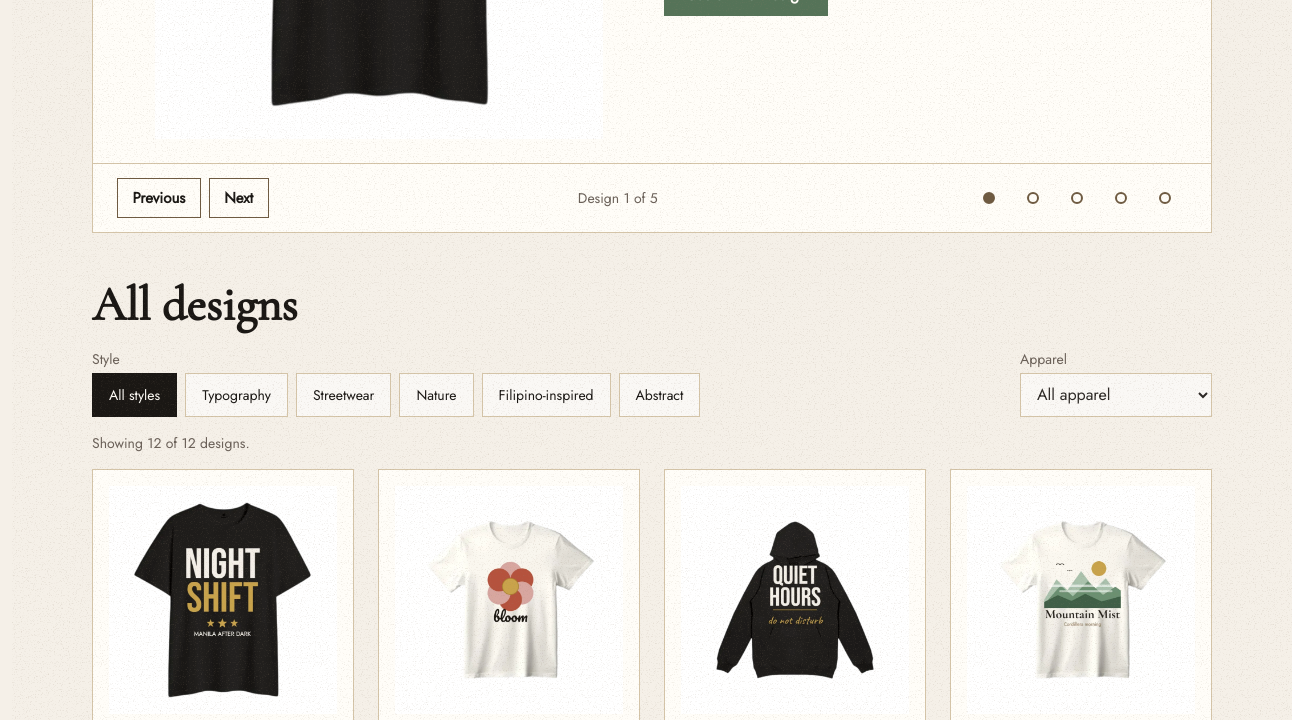
the Browse all designs page › style and apparel combine, an empty combination says so with a way out, and clearing shows everything
(page scrolled)
Click the button with test id "style-Streetwear" at (344, 394), box [296,372,391,416]
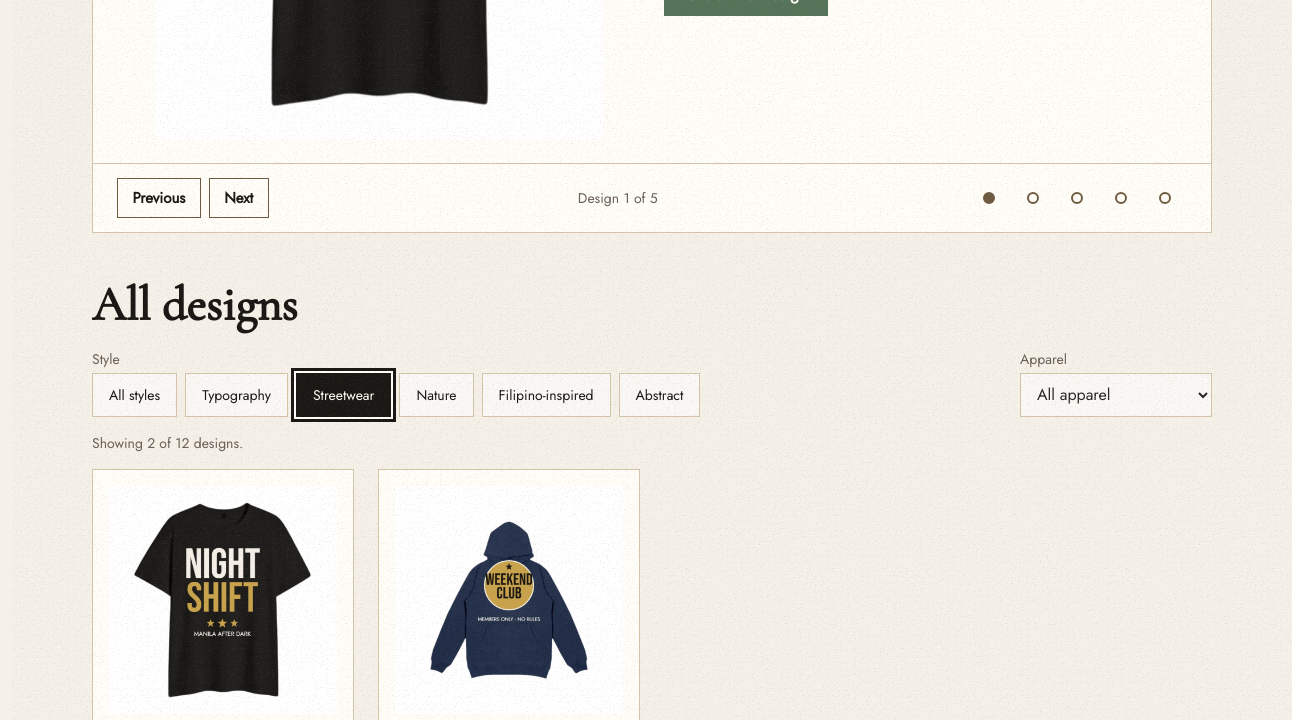
Select "Onesies" in the dropdown with test id "apparel-filter" at (1116, 394), box [1020,372,1212,416]
(page scrolled)
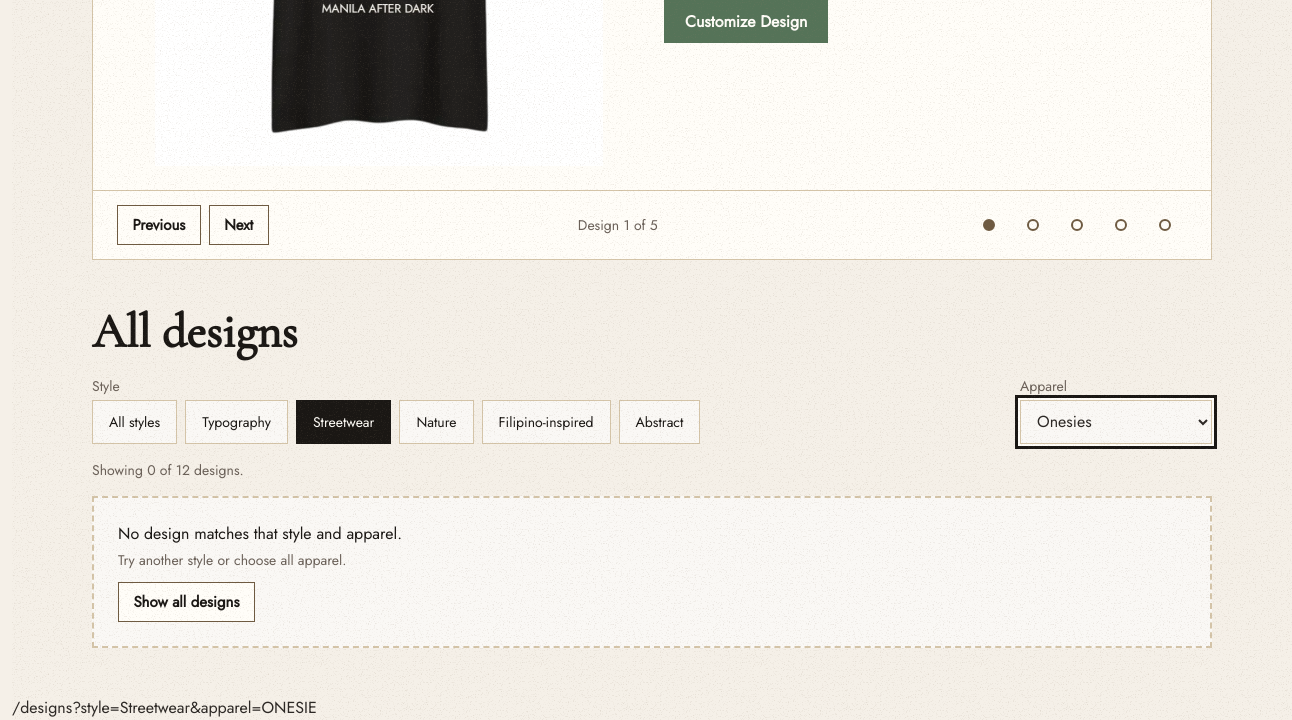
Expected: no list items with test id "design-card" are shown
Expected: the element with test id "designs-empty" shows "No design matches", [118,522,402,544]
Click the button "Show all designs" at (186, 602), box [118,582,255,622]
(page scrolled)
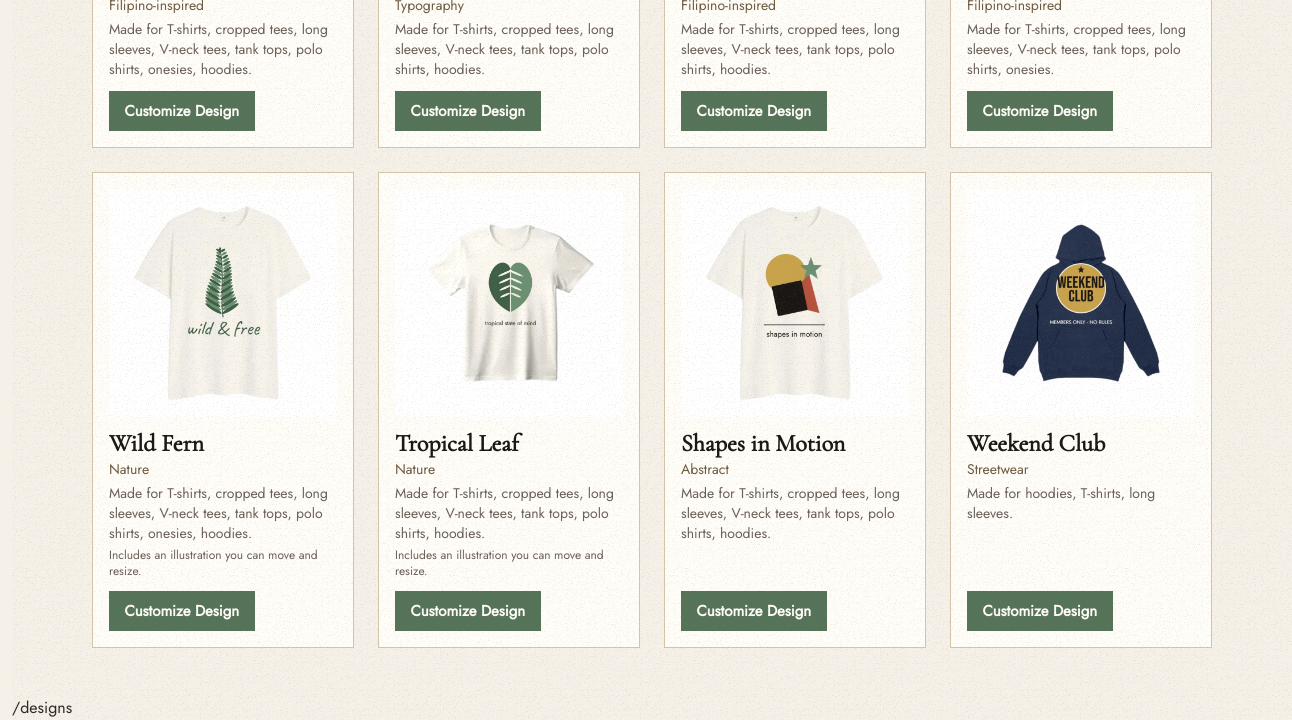
Expected: the text with test id "where" reads "/designs", [12,696,72,718]
Expected: the number of elements with test id "design-card" is 12
